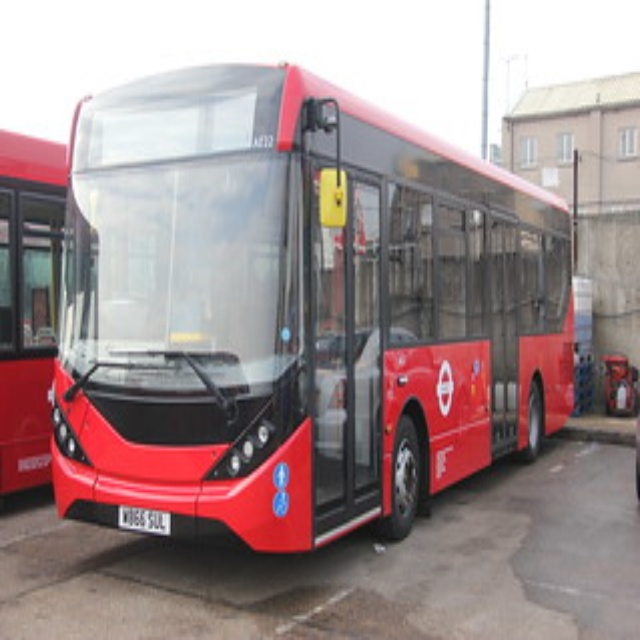Bus: (48, 60, 574, 559)
